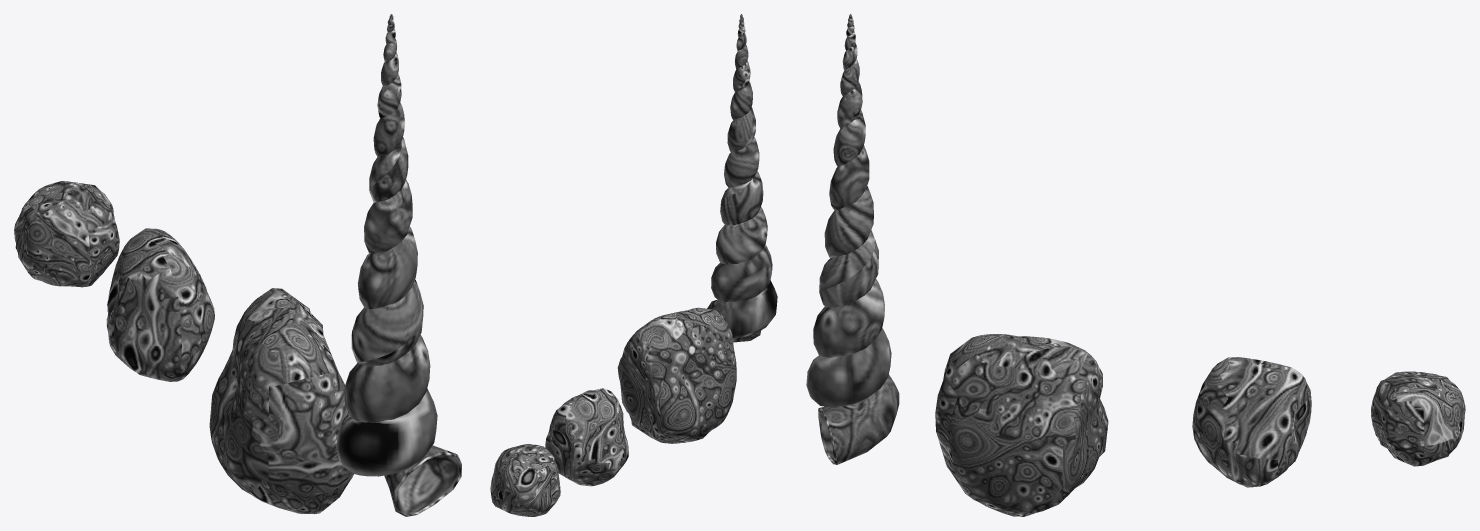
Rendered from M_Shells and rocks.fbx.
3 views of the same model, side by side, from view 1: azimuth 30°, elevation 25°; view 2: azimuth 150°, elevation 25°; view 3: azimuth 270°, elevation 25° (orthographic). The views are drawn at different scales.
Parts seen in each view (by area): view 1: pipe shell, Cube, Stone one, stone two; view 2: Cube, pipe shell, Stone one, stone two; view 3: Cube, pipe shell, Stone one, stone two.
Part boxes in pixels (x1,y1,x2,y2): pipe shell: (336, 14, 461, 516); Cube: (209, 288, 353, 514); Stone one: (106, 228, 214, 381); stone two: (14, 181, 119, 287); Cube: (617, 307, 736, 443); pipe shell: (707, 14, 777, 342); Stone one: (545, 388, 628, 486); stone two: (490, 444, 560, 516); Cube: (935, 334, 1108, 516); pipe shell: (806, 14, 899, 464); Stone one: (1192, 357, 1311, 487); stone two: (1371, 371, 1465, 466).
Bounding box in the file's own units: 119 × 487 × 586.
